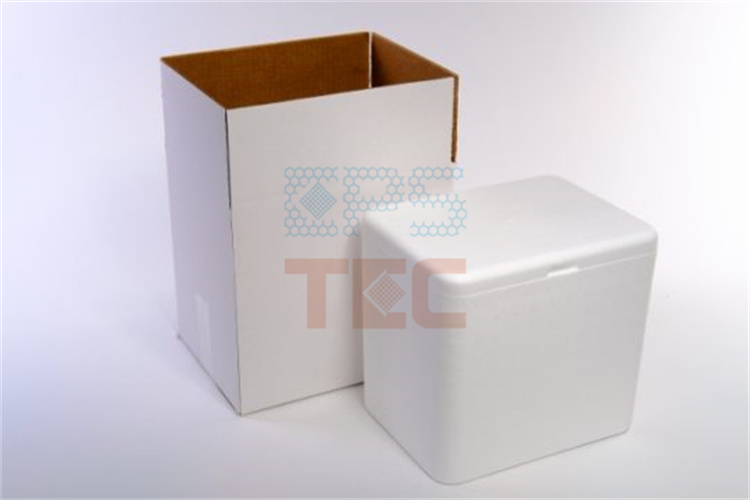泡沫箱: (357, 178, 657, 482)
